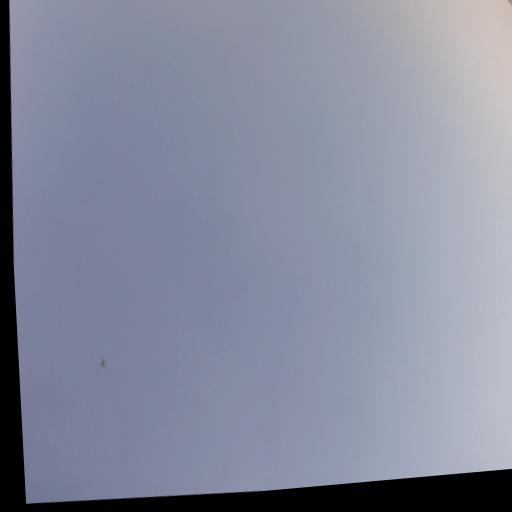drones: (97, 354, 110, 373)
